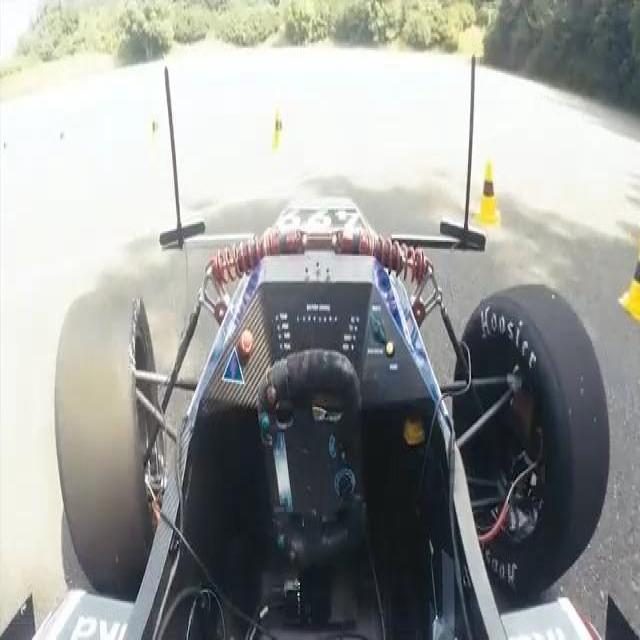yellow_cone: (617, 233, 640, 338), (475, 163, 505, 231)
